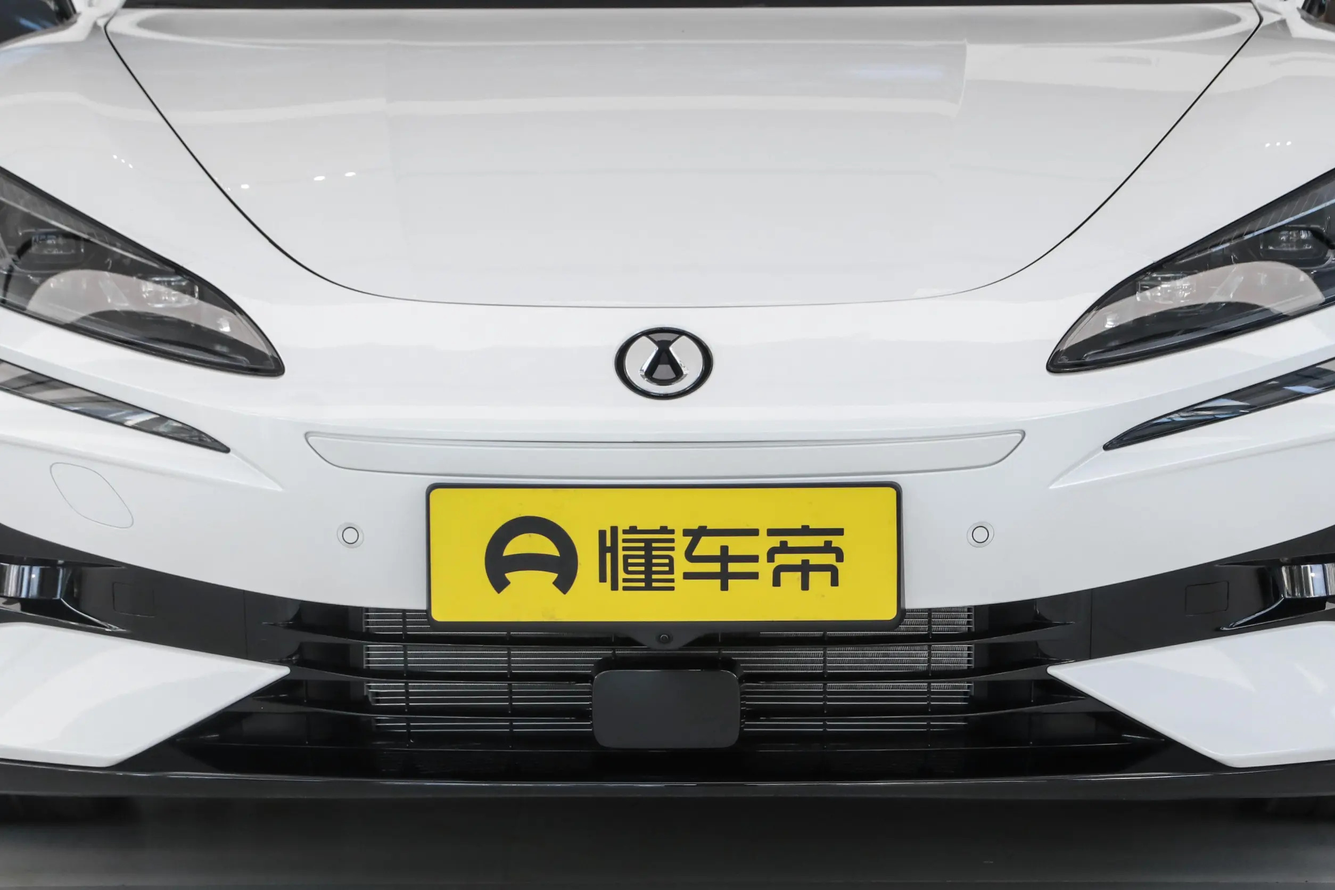DENZA: (626, 336, 702, 392)
